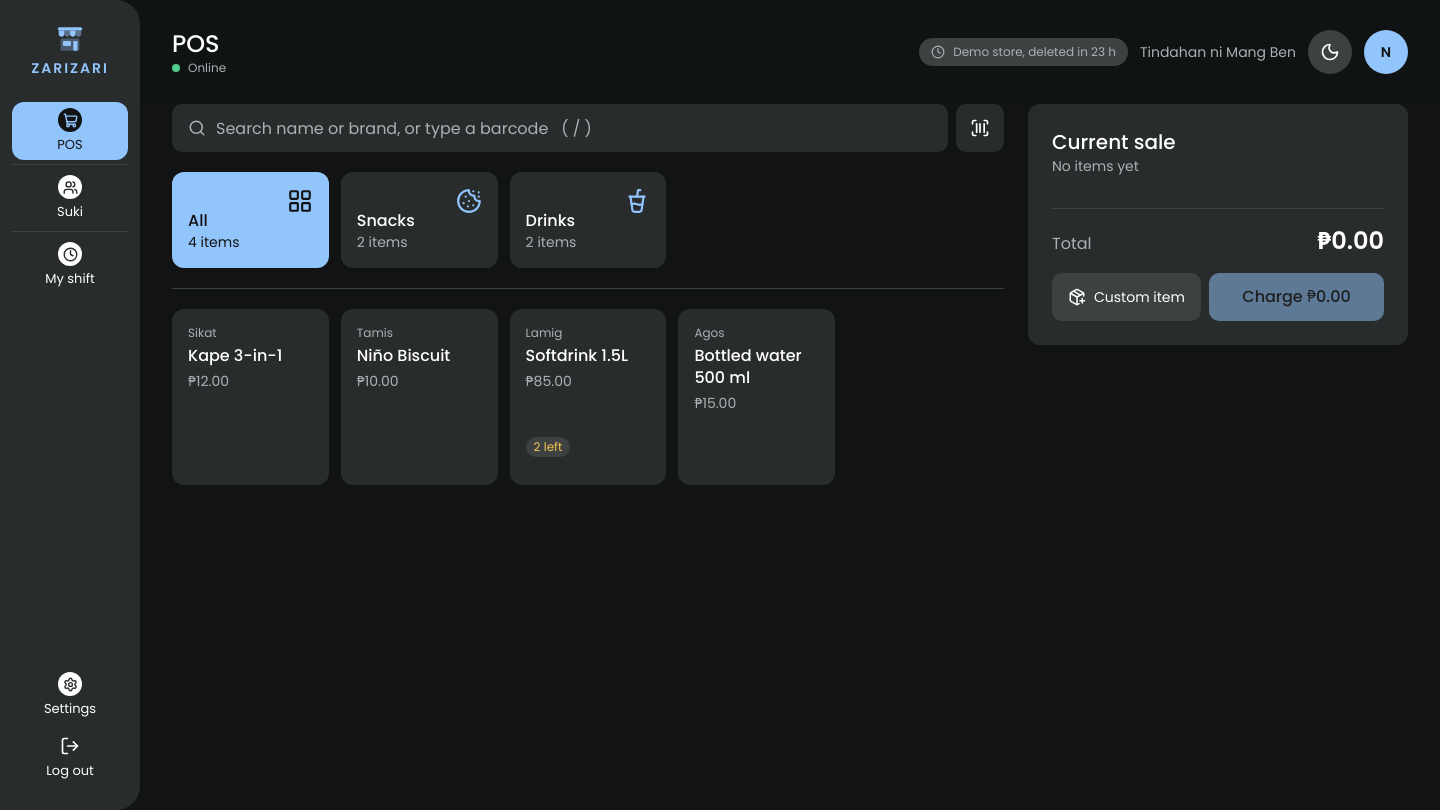
Test: scanning at the POS (spec 10) › adds a scanned product to the sale and closes the camera
Click the button named "Scan a barcode": (980, 128) [956,104,1004,152]
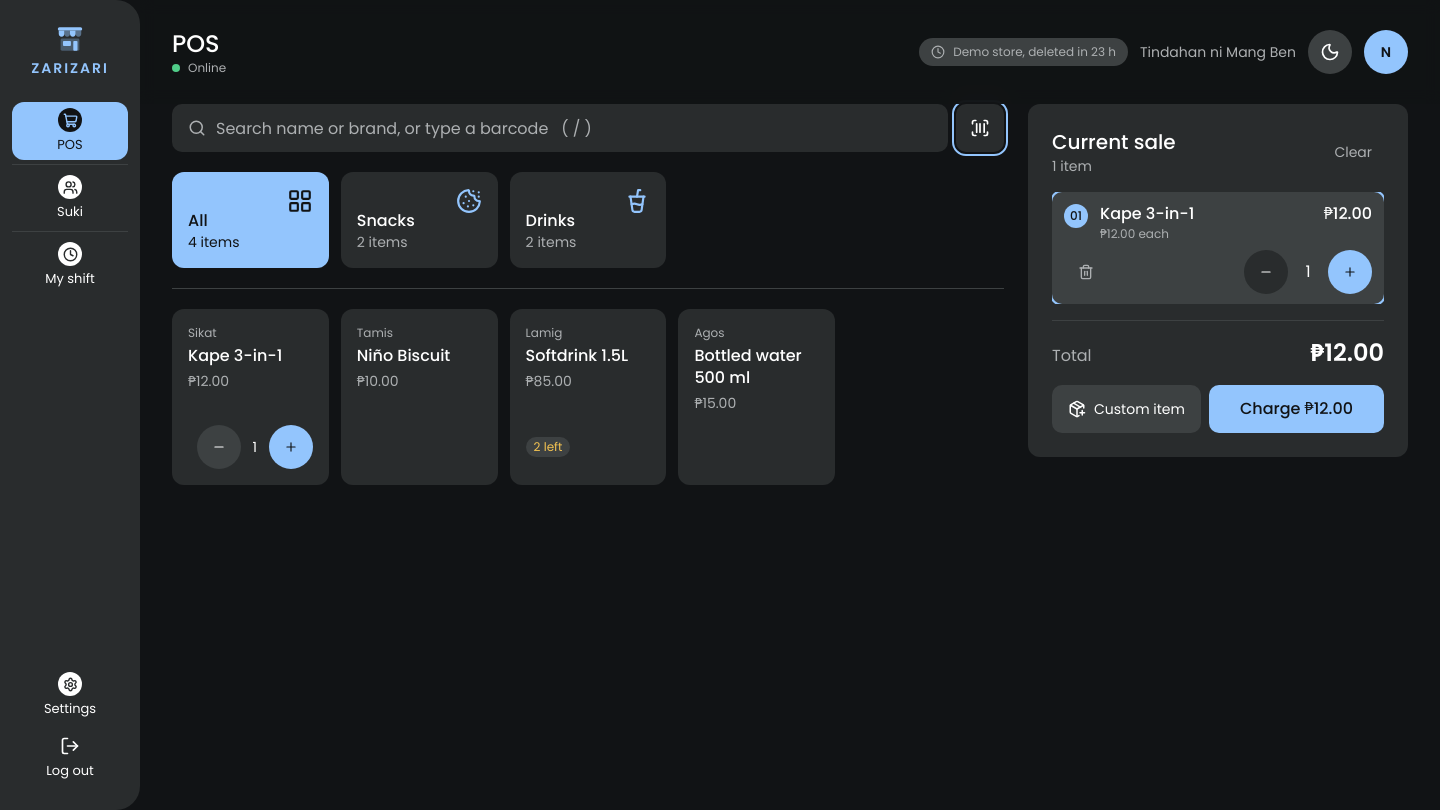
Expected: the text "Kape 3-in-1" is shown, [1100,202,1194,225]
